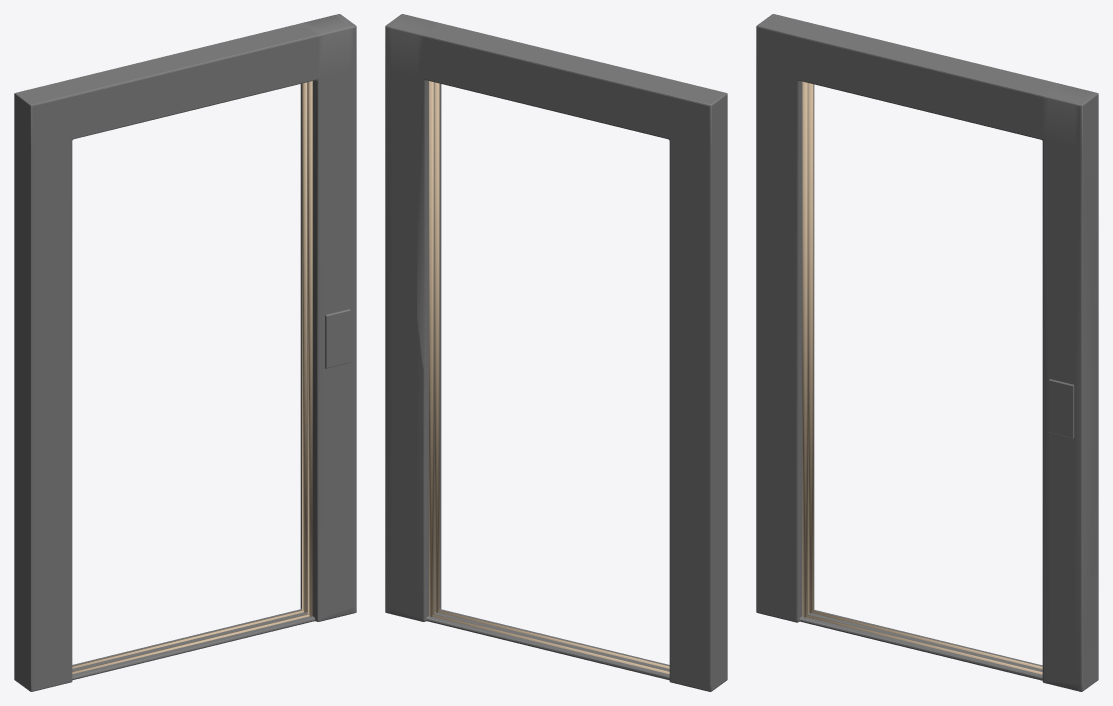
Rendered from modelo.OBJ.
3 views of the same model, side by side, from view 1: azimuth 30°, elevation 25°; view 2: azimuth 150°, elevation 25°; view 3: azimuth 330°, elevation 25° (orthographic).
Visible parts, largest first — view 1: Box001, Box004, Box005, Box006, Box007; view 2: Box001, Box005, Box004, Box007, Box006; view 3: Box001, Box003, Box002, Box006, Box007.
Boxes of the visible parts, left/top/right/bottom form: Box001: left=14, top=14, right=356, bottom=691; Box004: left=307, top=81, right=312, bottom=616; Box005: left=302, top=82, right=307, bottom=612; Box006: left=72, top=614, right=309, bottom=674; Box007: left=72, top=610, right=303, bottom=668; Box001: left=385, top=14, right=727, bottom=691; Box005: left=429, top=81, right=434, bottom=616; Box004: left=434, top=82, right=439, bottom=612; Box007: left=432, top=614, right=669, bottom=674; Box006: left=438, top=610, right=669, bottom=668; Box001: left=756, top=14, right=1098, bottom=691; Box003: left=802, top=81, right=807, bottom=617; Box002: left=808, top=83, right=813, bottom=613; Box006: left=806, top=614, right=1042, bottom=674; Box007: left=811, top=610, right=1042, bottom=669.
Bounding box in the file's own units: 1364 × 2355 × 132.
